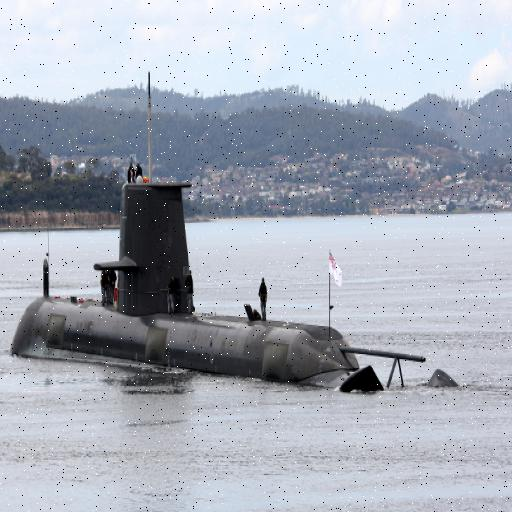submarine: (10, 185, 460, 390)
